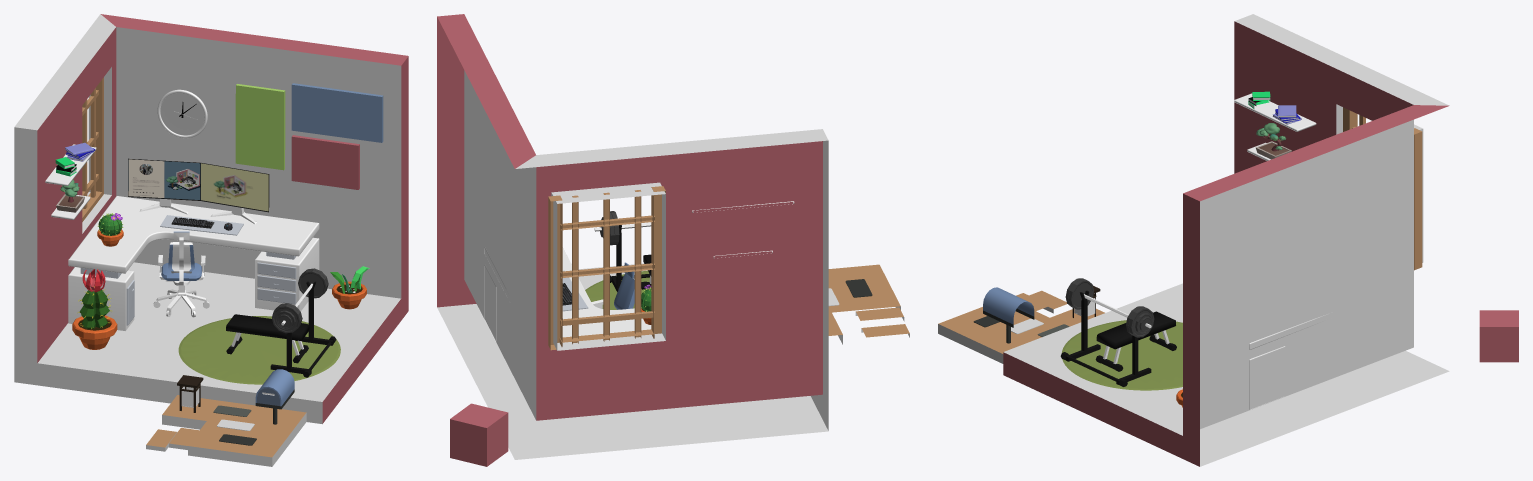
Rendered from room_tbz.glb.
3 views of the same model, side by side, from view 1: azimuth 30°, elevation 25°; view 2: azimuth 150°, elevation 25°; view 3: azimuth 270°, elevation 25° (orthographic). The views are drawn at different scales.
Visible parts, largest first — view 1: Body, Furnitures, AirConditioner, FloorItems, Computers, MiniFloor, Hobbies, Shelves, Clock, TableStuff, Mailbox, ExteriorLamp (+2 smaller); view 2: Body, Cube, MiniFloor, Furnitures, Hobbies, TableStuff, FloorItems, FloorStep1, FloorStep2; view 3: Body, FloorItems, Hobbies, MiniFloor, Shelves, Cube, Mailbox.
Boxes of the visible parts, left/top/right/bottom form: Body: left=14, top=14, right=408, bottom=424; Furnitures: left=68, top=196, right=319, bottom=330; AirConditioner: left=235, top=83, right=383, bottom=189; FloorItems: left=72, top=266, right=369, bottom=384; Computers: left=128, top=158, right=269, bottom=223; MiniFloor: left=162, top=395, right=306, bottom=466; Hobbies: left=226, top=268, right=336, bottom=377; Shelves: left=45, top=142, right=96, bottom=219; Clock: left=157, top=89, right=207, bottom=138; TableStuff: left=97, top=213, right=243, bottom=246; Mailbox: left=255, top=369, right=294, bottom=424; ExteriorLamp: left=177, top=375, right=203, bottom=412; Body: left=437, top=14, right=828, bottom=459; Cube: left=450, top=403, right=508, bottom=466; MiniFloor: left=828, top=264, right=900, bottom=344; Furnitures: left=484, top=247, right=651, bottom=341; Hobbies: left=594, top=211, right=651, bottom=291; TableStuff: left=562, top=270, right=651, bottom=324; FloorItems: left=585, top=270, right=649, bottom=309; FloorStep1: left=855, top=307, right=904, bottom=321; FloorStep2: left=861, top=324, right=909, bottom=337; Body: left=1003, top=14, right=1449, bottom=466; FloorItems: left=1062, top=320, right=1182, bottom=407; Hobbies: left=1060, top=278, right=1176, bottom=386; MiniFloor: left=938, top=307, right=1104, bottom=363; Shelves: left=1234, top=91, right=1316, bottom=160; Cube: left=1479, top=310, right=1518, bottom=362; Mailbox: left=983, top=287, right=1034, bottom=343.
Size of the model in its own units: 5.21 by 3.44 by 6.83.
52 materials, 5 textured.
